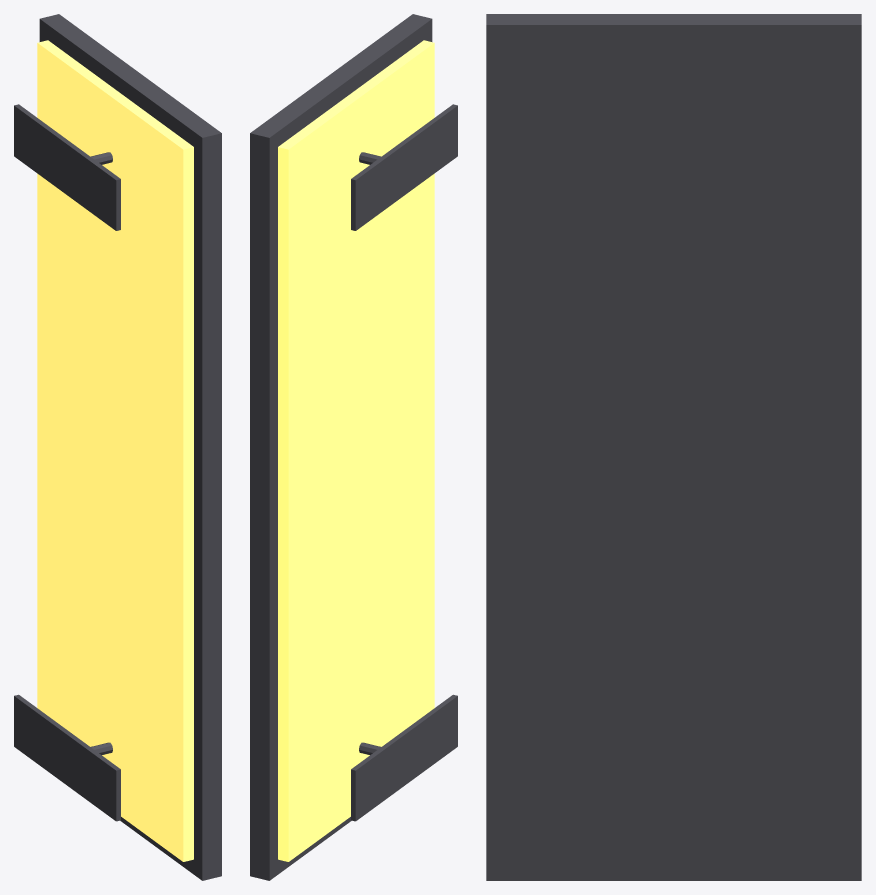
Rendered from bt-fh6-sign-orange.glb.
The picture shows the model from 3 angles, left to right: view 1: azimuth 30°, elevation 25°; view 2: azimuth 150°, elevation 25°; view 3: azimuth 270°, elevation 25°; orthographic projection. The views are drawn at different scales.
Parts seen in each view (by area): view 1: bt-fh6-sign-orange_board, bt-fh6-sign-orange_frame, bt-fh6-sign-orange_bar1.2, bt-fh6-sign-orange_bar7.0; view 2: bt-fh6-sign-orange_board, bt-fh6-sign-orange_frame, bt-fh6-sign-orange_bar1.2, bt-fh6-sign-orange_bar7.0; view 3: bt-fh6-sign-orange_frame.
Part boxes in pixels (box(x1,y1,x2,y2)): bt-fh6-sign-orange_board: box(37, 40, 193, 861); bt-fh6-sign-orange_frame: box(39, 14, 221, 880); bt-fh6-sign-orange_bar1.2: box(14, 694, 120, 821); bt-fh6-sign-orange_bar7.0: box(14, 104, 120, 230); bt-fh6-sign-orange_board: box(278, 40, 434, 861); bt-fh6-sign-orange_frame: box(250, 14, 432, 880); bt-fh6-sign-orange_bar1.2: box(351, 694, 457, 821); bt-fh6-sign-orange_bar7.0: box(351, 104, 457, 230); bt-fh6-sign-orange_frame: box(486, 14, 861, 880).
Size of the model in its own units: 0.775 by 7.3 by 2.9.
